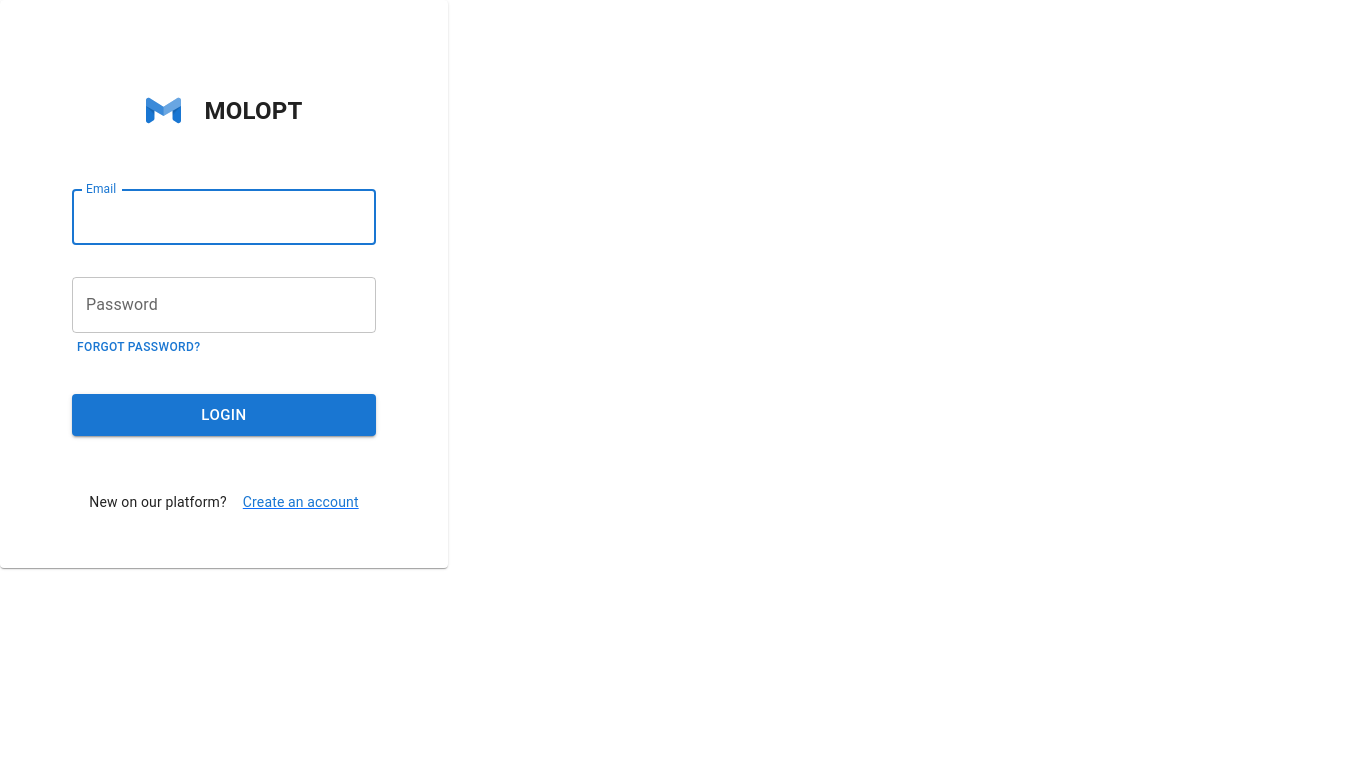
Test: Mock forgot password › Mock forgot password
What coordinates should you click on to do the following:
click the button with id "forgot_password"
I would click on:
 (139, 348)
Its box is [72,333,205,362].
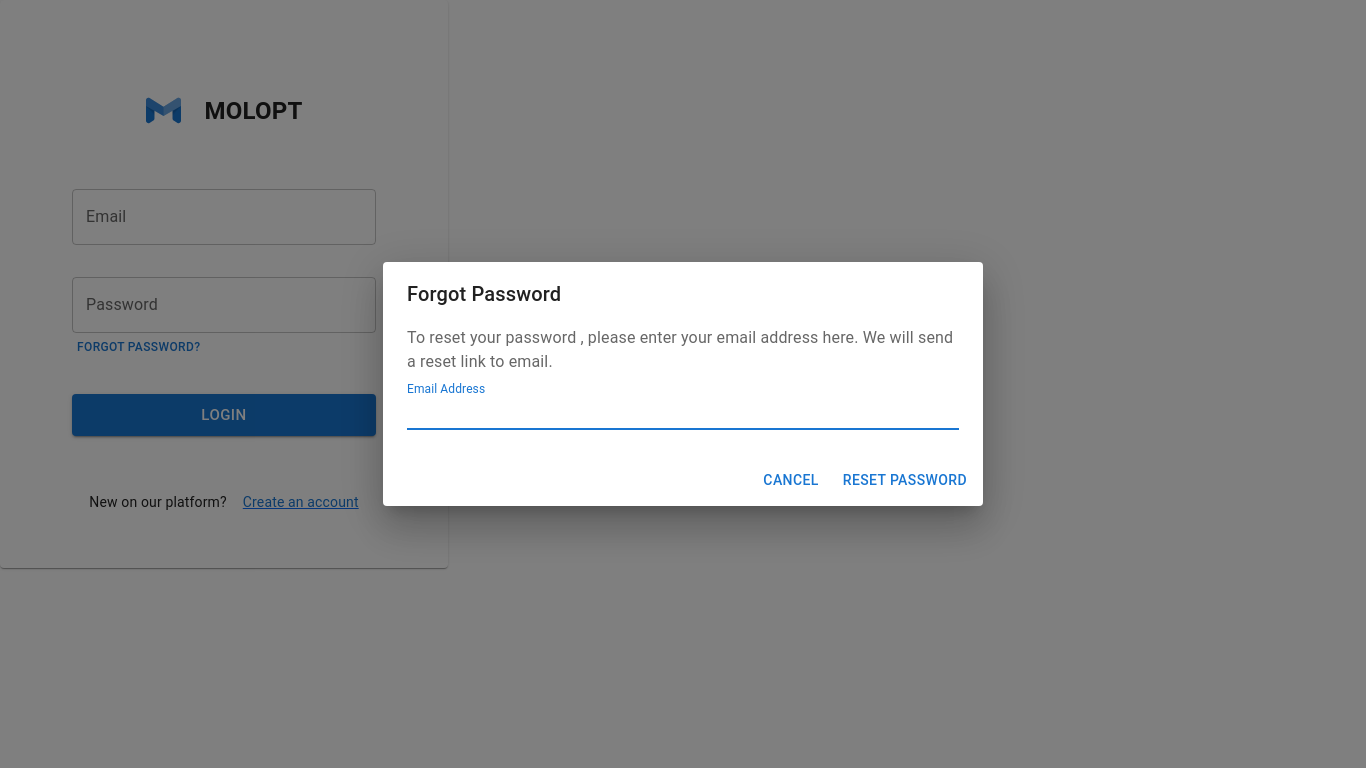
Check: the element with id "forgot_password_modal" is shown
